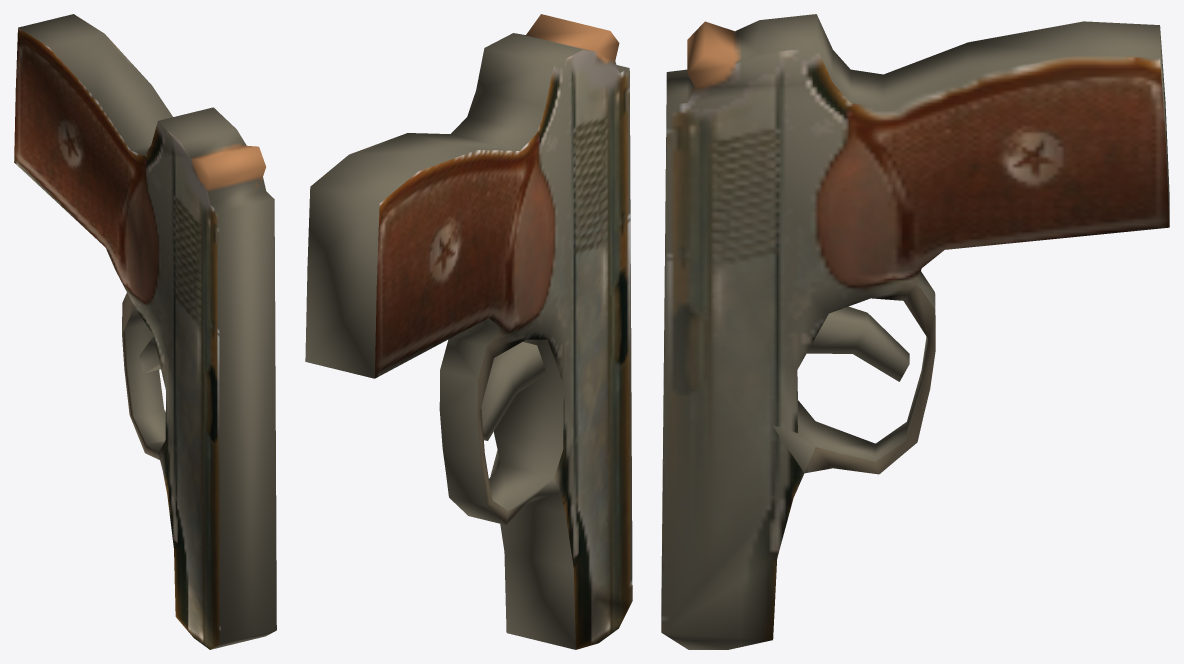
3 views of the same model, side by side, from view 1: azimuth 30°, elevation 25°; view 2: azimuth 150°, elevation 25°; view 3: azimuth 270°, elevation 25° (orthographic). The views are drawn at different scales.
Visible parts, largest first — view 1: PM; view 2: PM; view 3: PM.
Part boxes in pixels (x1,y1,x2,y2): PM: (14, 14, 276, 649); PM: (305, 14, 632, 649); PM: (661, 14, 1169, 649).
Bounding box in the file's own units: 45.18 × 380 × 291.
